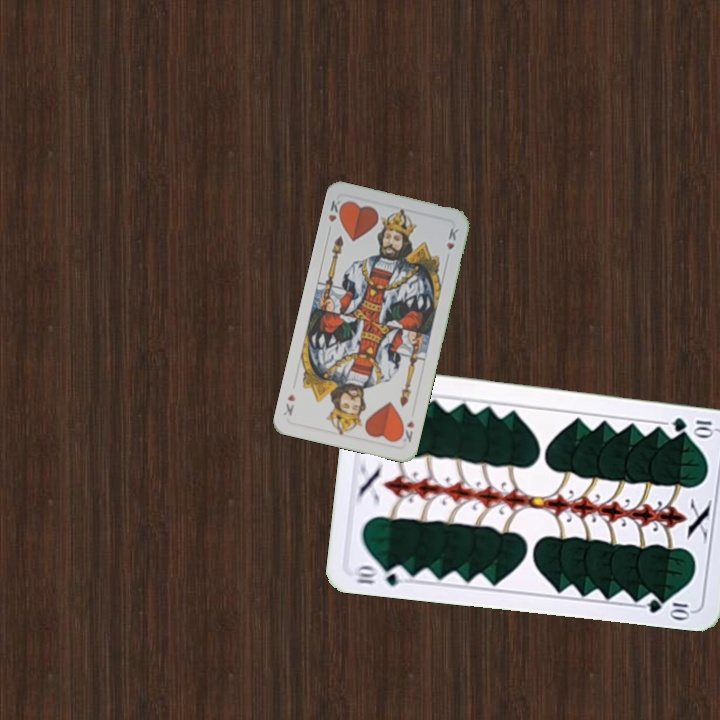G10: (350, 561, 410, 589), (668, 413, 717, 438)
HK: (324, 195, 347, 225), (395, 416, 417, 445)
